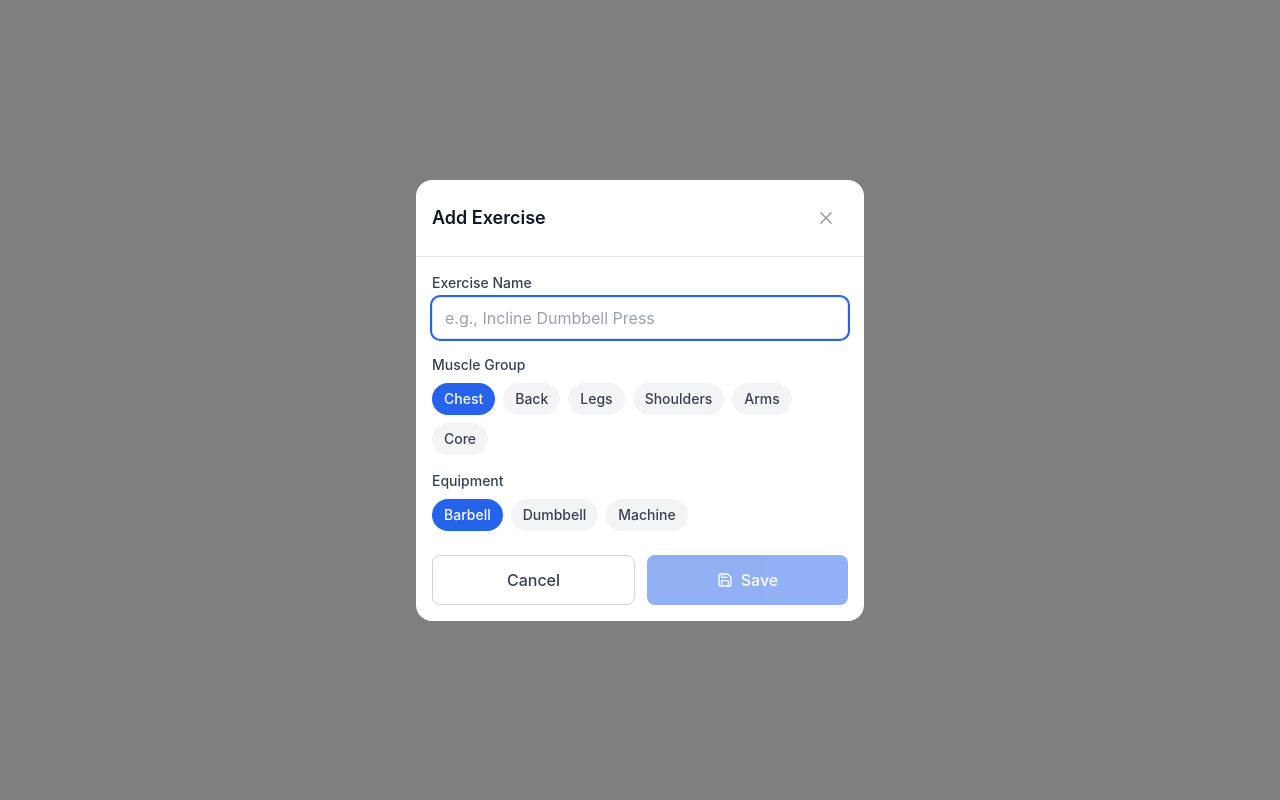
Test: ExerciseModal › Error Handling › should show error message when save fails
Type "Test" into the field labelled "Exercise Name" at [640, 318], box [432,296,848,338]
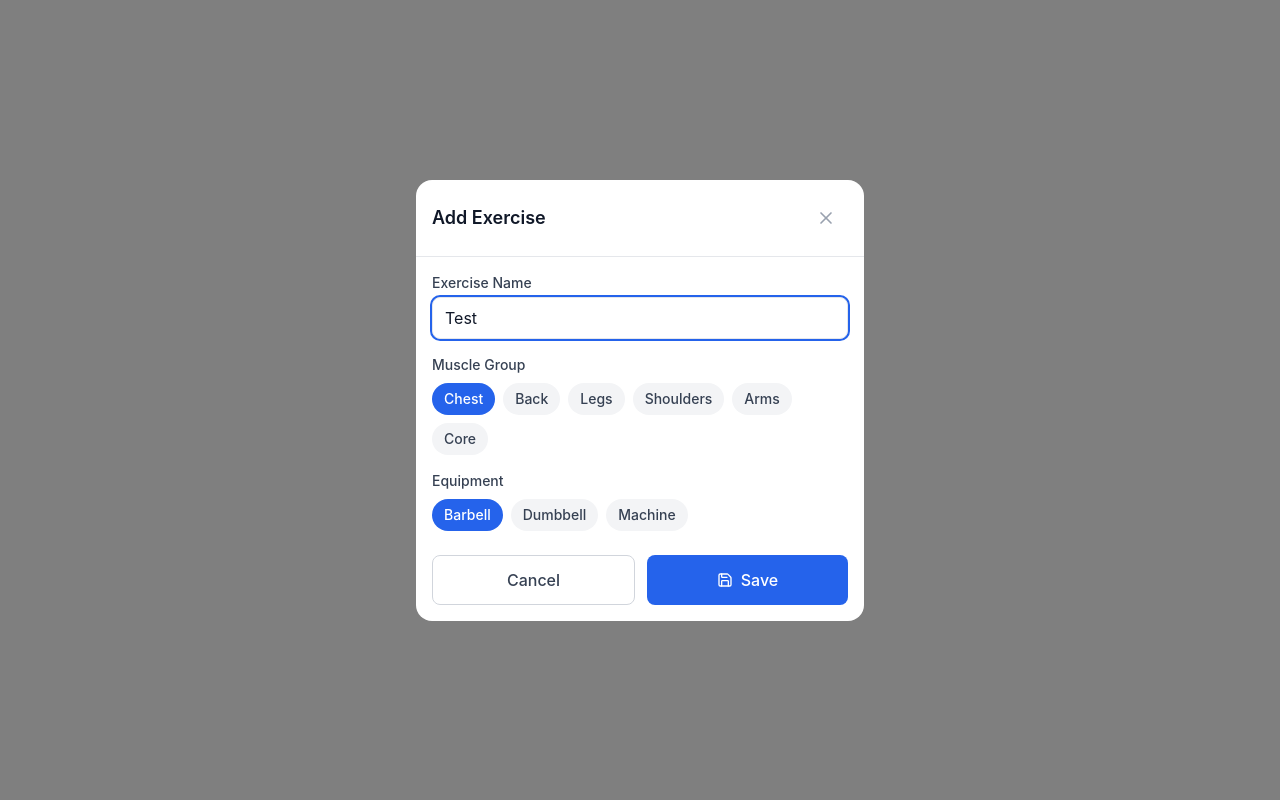
Click the button "Save" at [748, 580], box [647,554,848,604]
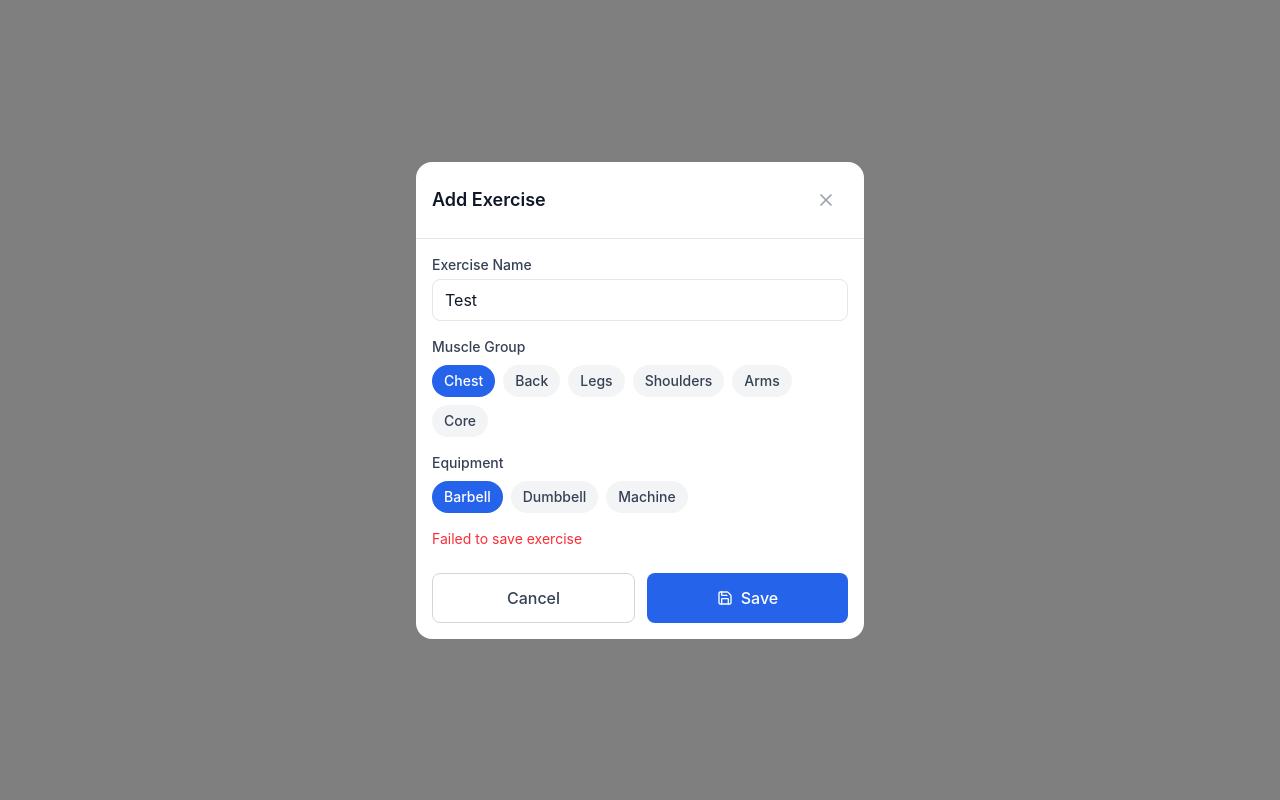
Result: the text "Failed to save exercise" is shown at [432,530,582,546]
